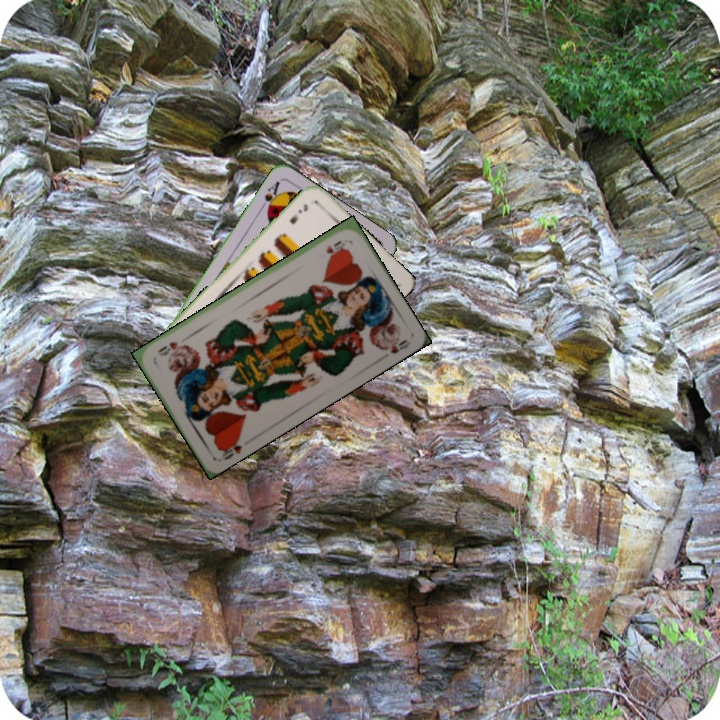E7: (285, 200, 310, 227)
HO: (214, 433, 245, 463), (322, 236, 348, 256)
SA: (256, 177, 283, 216)
